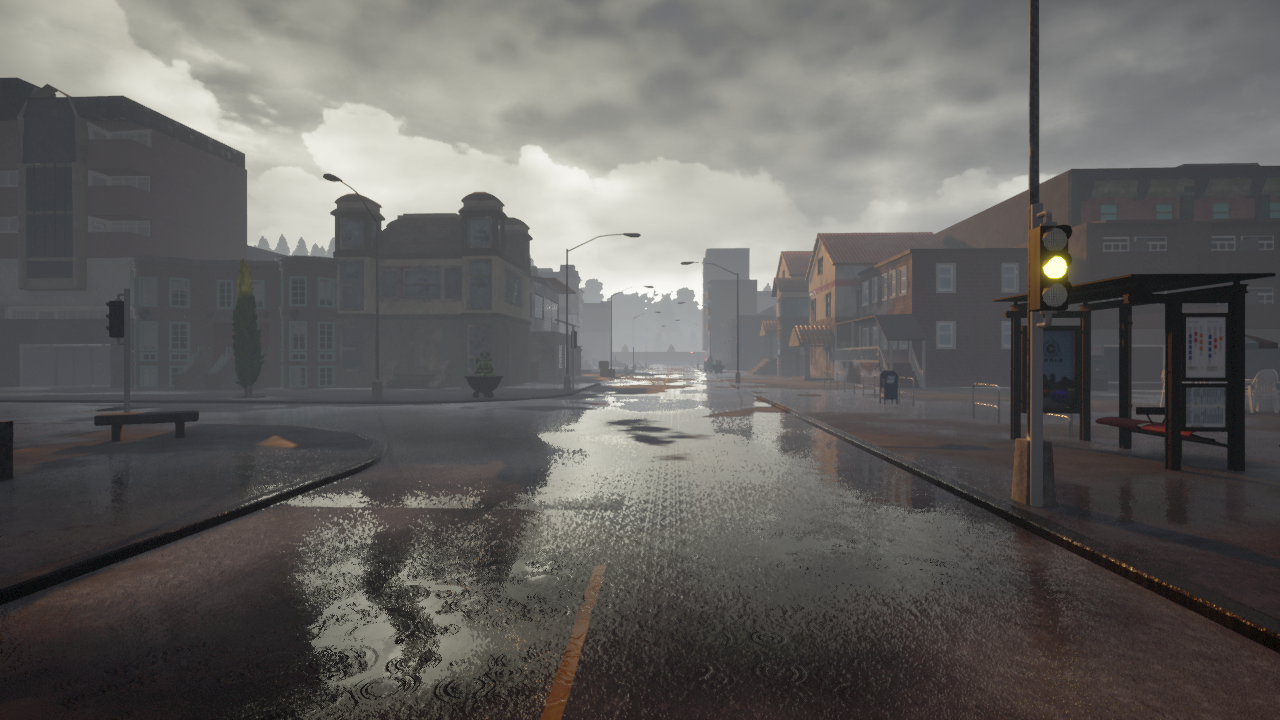yellow: (1032, 220, 1072, 316)
